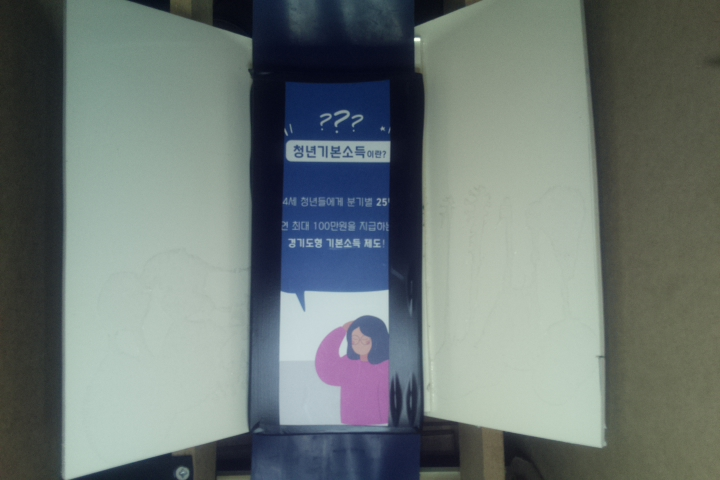book: (246, 71, 427, 439)
